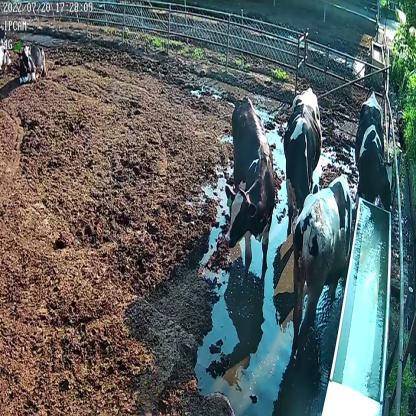cow: (292, 175, 354, 346), (224, 97, 275, 275), (281, 86, 321, 217), (353, 90, 394, 215), (16, 41, 49, 81)
